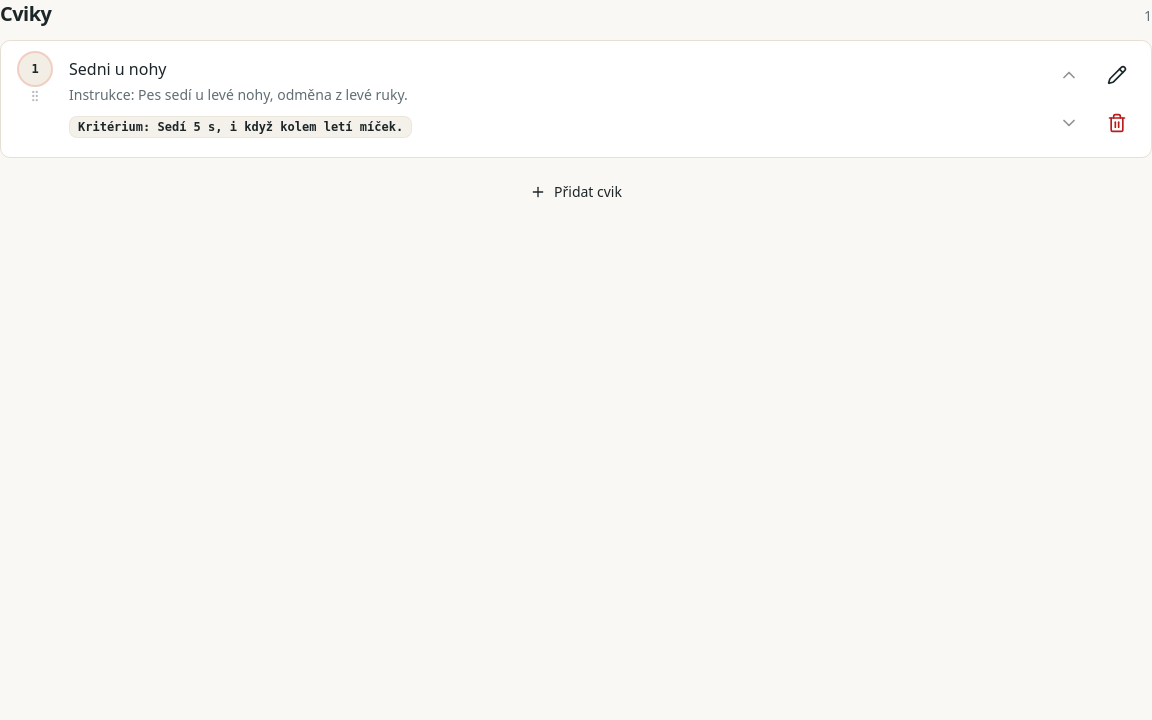
Test case: PlanBlocksSection › opens a block for editing when it is clicked (#65)
The image size is (1152, 720).
Click the button that starts with "Sedni u nohy": (86, 68) [69, 53, 1035, 145]
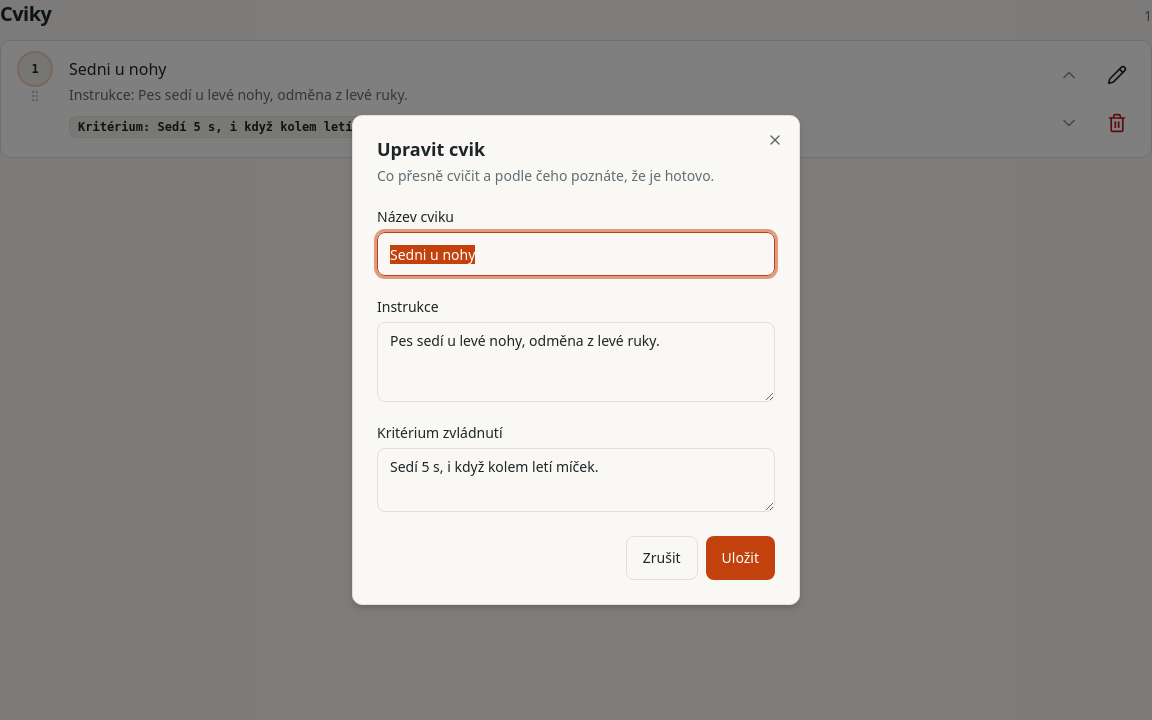
Check: the heading "Upravit cvik" is shown, box [377, 137, 485, 161]
Check: the field labelled "Název cviku" holds "Sedni u nohy", box [377, 232, 775, 276]
Check: the text box labelled "Kritérium zvládnutí" holds "Sedí 5 s, i když kolem letí míček.", box [377, 448, 775, 512]
